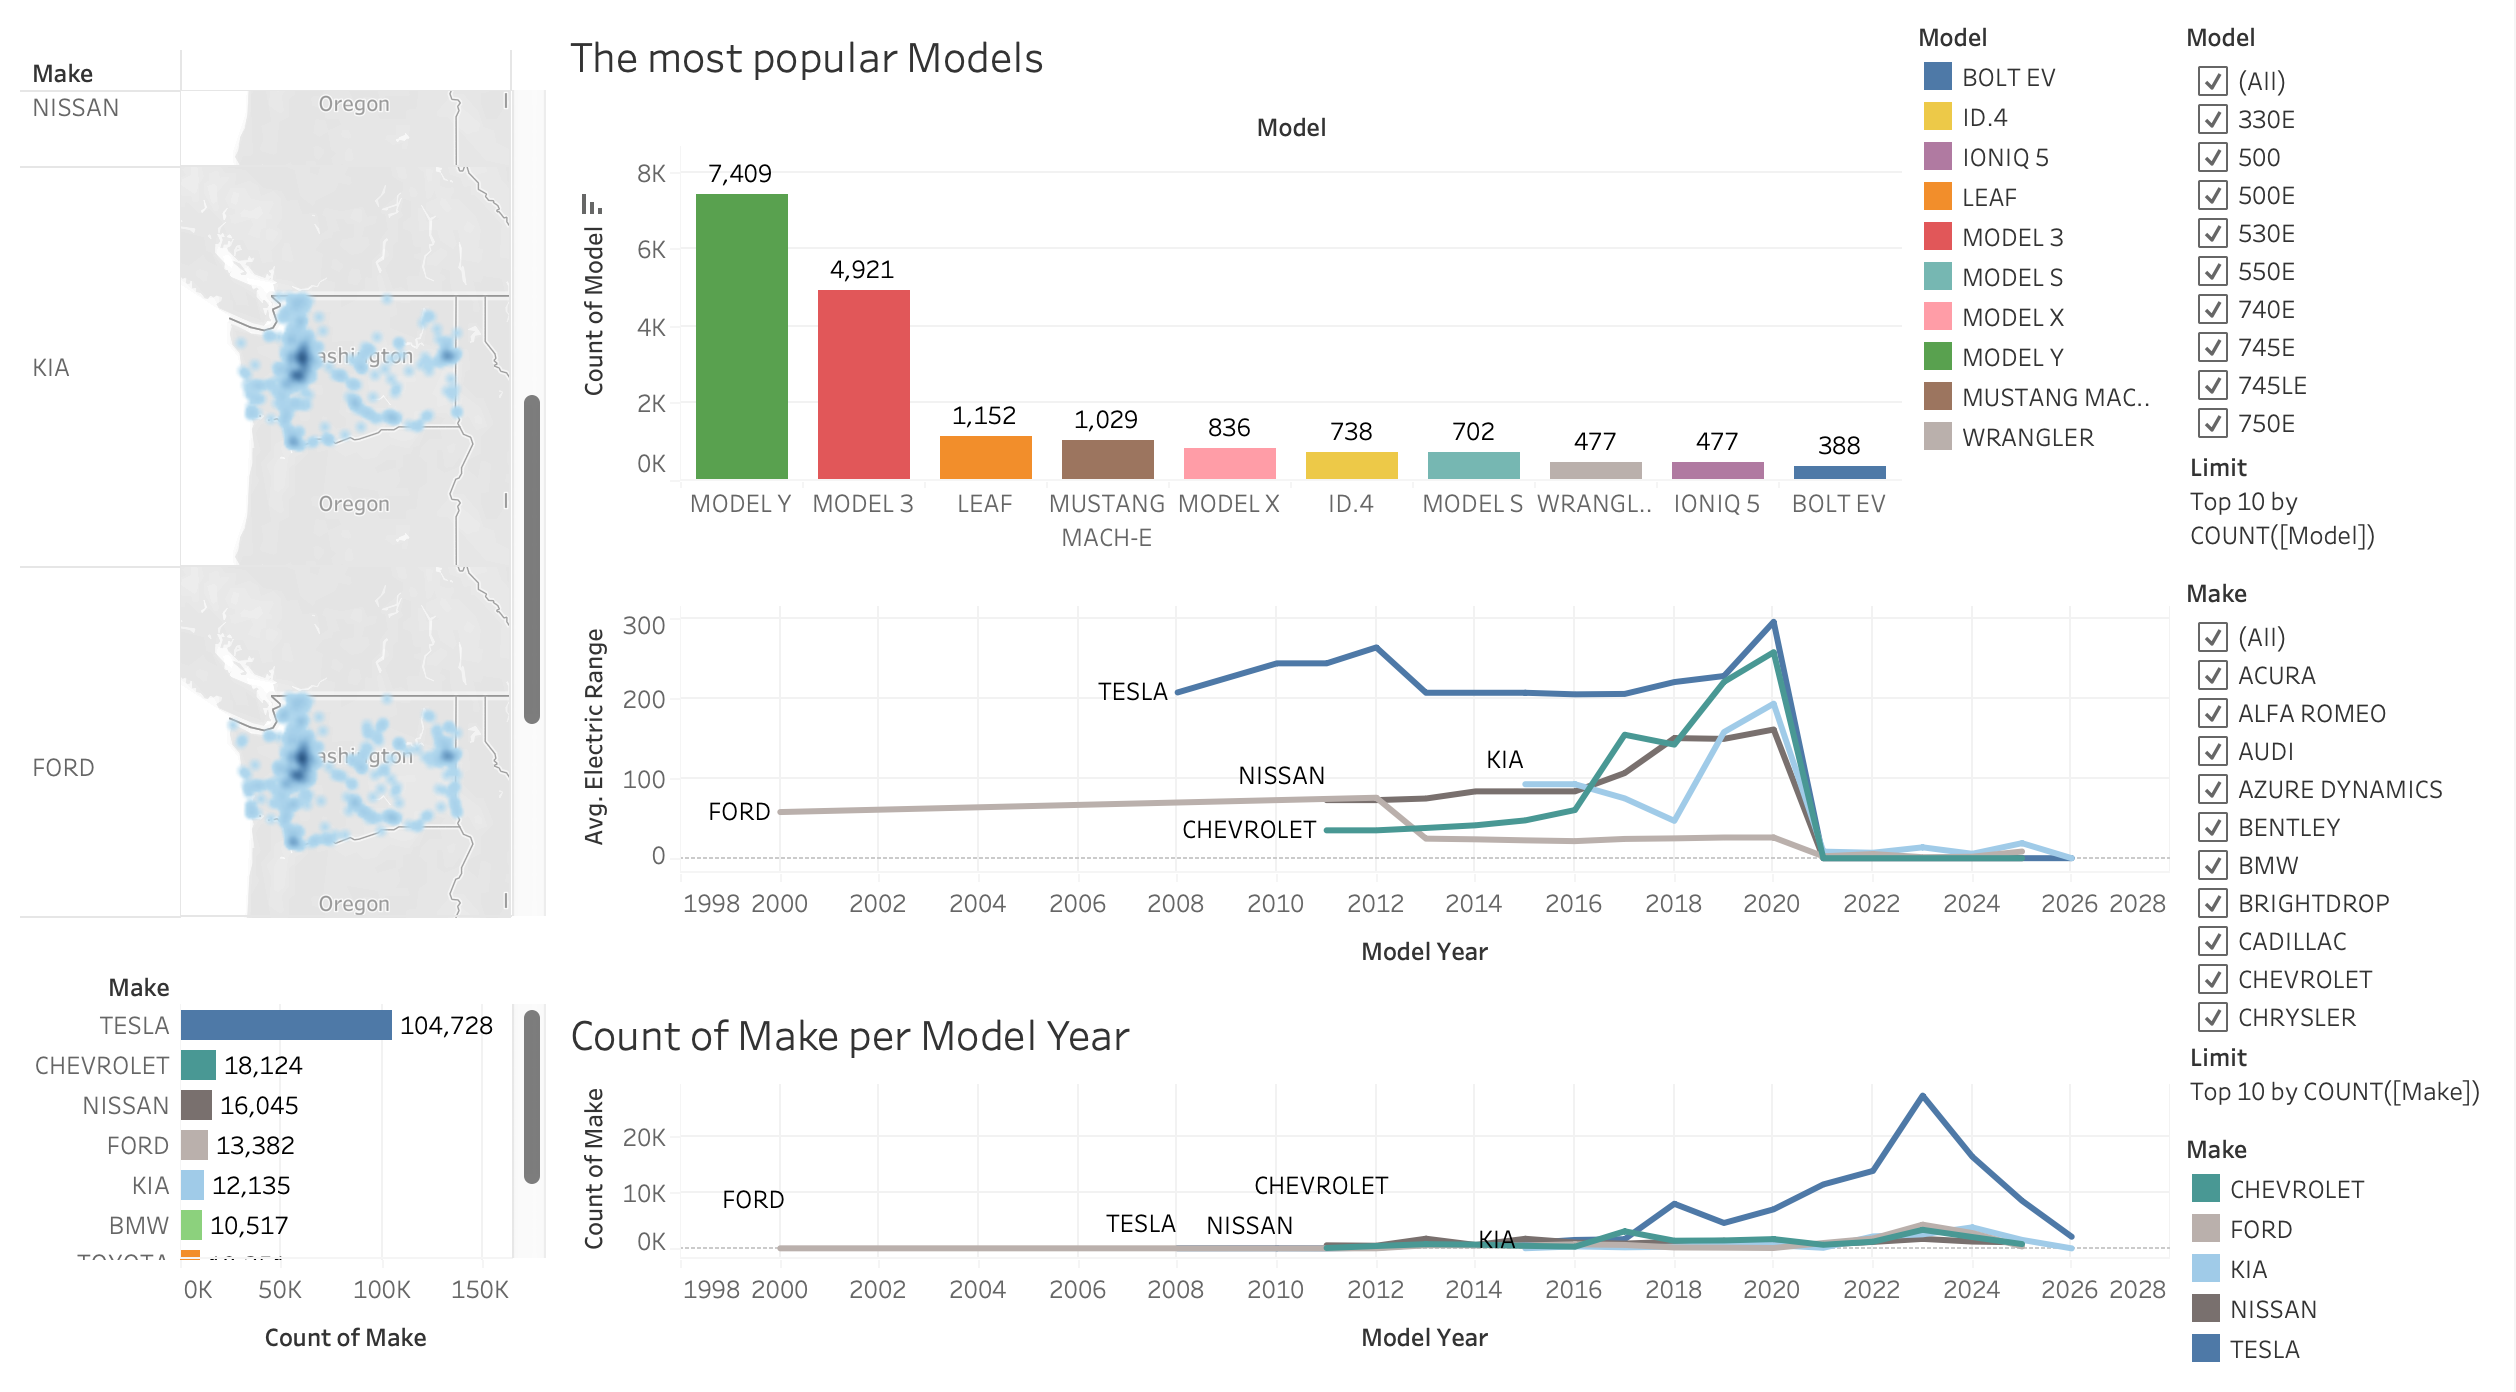

This screenshot's page, from the dashboard's own definition file:
{"tool":"tableau","page":{"name":"Dashboard 1","canvas":[1000,1000],"units":"permille","ordinal":0},"visuals":[{"type":"worksheet","title":"Sheet 4","mark":"Heatmap","rows":["Make","Latitude"],"cols":["Longitude"],"box":[6.2,11.5,216.1,654.7]},{"type":"worksheet","title":"Sheet 13","mark":"Automatic","rows":["Model"],"cols":["Model"],"box":[222.3,11.5,541.4,398.3]},{"type":"legend","title":"Sheet 13","param":"[federated.0okwu6h1vopnvm1c1umx01kwji1w].[none:Model:nk]","box":[763.7,11.5,107,398.3]},{"type":"filter","title":"Sheet 13","param":"[federated.0okwu6h1vopnvm1c1umx01kwji1w].[none:Model:nk]","box":[870.7,11.5,123.2,398.3]},{"type":"worksheet","title":"Sheet 9","mark":"Line","rows":["Electric Range"],"cols":["Model Year"],"box":[222.3,409.7,648.4,302.3]},{"type":"filter","title":"Sheet 4 (2)","param":"[federated.0okwu6h1vopnvm1c1umx01kwji1w].[none:Make:nk]","box":[870.7,409.7,123.2,398.3]},{"type":"worksheet","title":"Sheet 4 (2)","mark":"Automatic","rows":["Make"],"cols":["Make"],"box":[6.2,666.2,216.1,322.4]},{"type":"worksheet","title":"Sheet 6","mark":"Automatic","rows":["Make"],"cols":["Model Year"],"box":[222.3,712,648.4,276.5]},{"type":"legend","title":"Sheet 6","param":"[federated.0okwu6h1vopnvm1c1umx01kwji1w].[none:Make:nk]","box":[870.7,808,123.2,180.5]}]}

Visuals, with their boxes on the dashboard's canvas, which has no fixed pixel size, in thousandths of its width and height (x1, y1, x2, y2). These are canvas units, not pixel positions in the 2516x1392 screenshot, which may show the page scaled, cropped or inside an application window:
"Sheet 4" worksheet (Heatmap marks): l=6, t=12, r=222, b=666
"Sheet 13" worksheet: l=222, t=12, r=764, b=410
"Sheet 13" legend: l=764, t=12, r=871, b=410
"Sheet 13" filter: l=871, t=12, r=994, b=410
"Sheet 9" worksheet (Line marks): l=222, t=410, r=871, b=712
"Sheet 4 (2)" filter: l=871, t=410, r=994, b=808
"Sheet 4 (2)" worksheet: l=6, t=666, r=222, b=989
"Sheet 6" worksheet: l=222, t=712, r=871, b=988
"Sheet 6" legend: l=871, t=808, r=994, b=988
